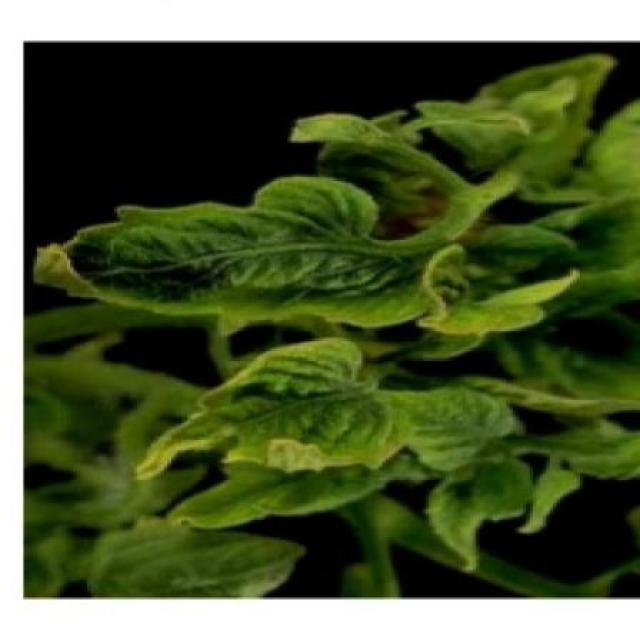Yellow Leaf Curl Virus: (114, 342, 499, 487), (28, 177, 413, 322)
